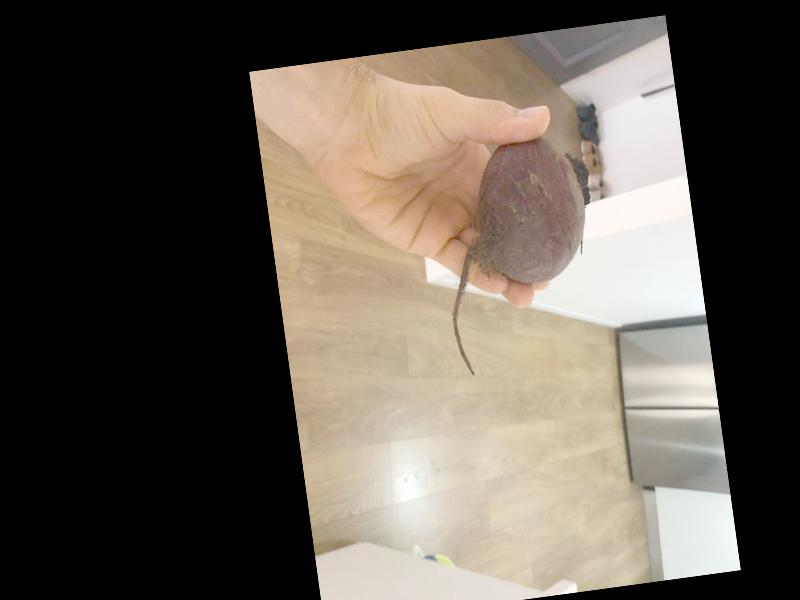Beet: (430, 132, 612, 377)
